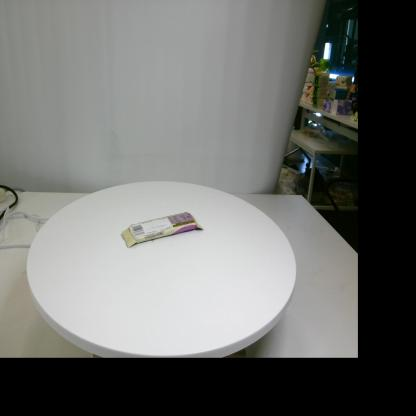Chocolate: (122, 212, 204, 248)
